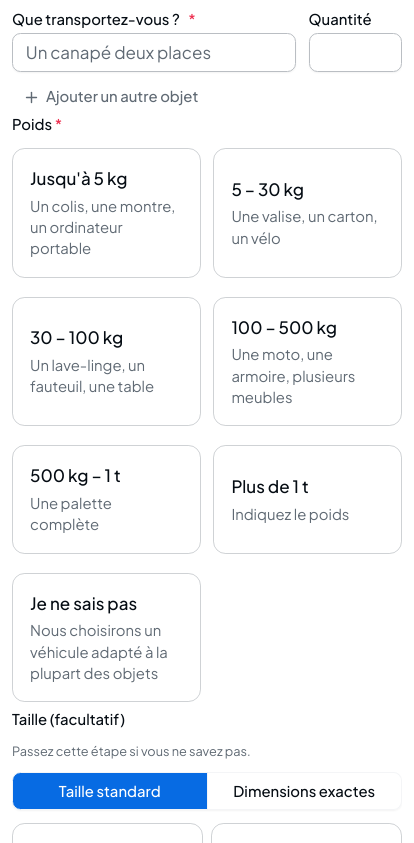
Test: weight › takes the figure away again when a lighter bracket is chosen
Click the radio button next to "Plus de 1 t": {"x": 239, "y": 499} [230, 491, 247, 508]
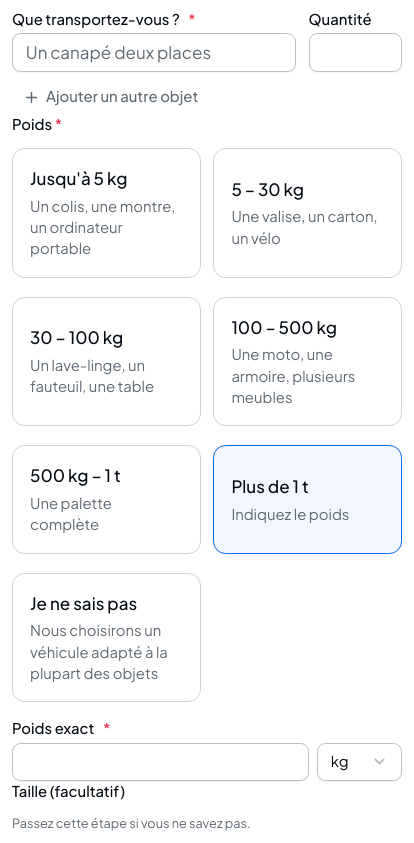
Click the radio button with id "weight-upTo5": {"x": 38, "y": 213} [29, 204, 46, 221]
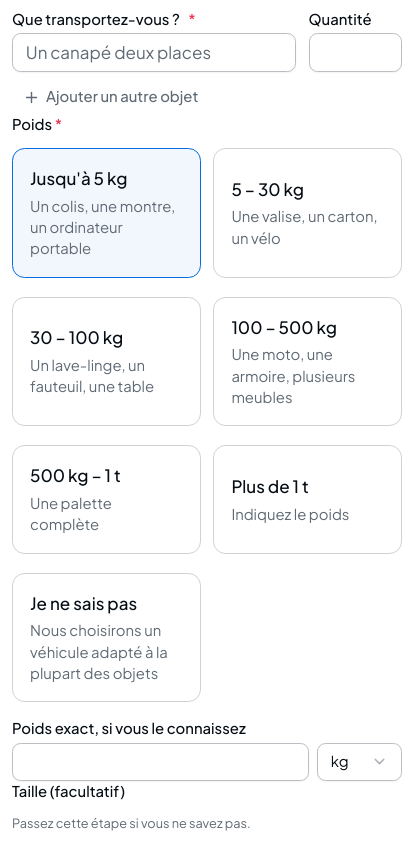
Check: the field labelled "Poids exact, si vous le connaissez" is empty, box [12, 742, 308, 781]
Check: the label labelled "Poids exact *" is gone
